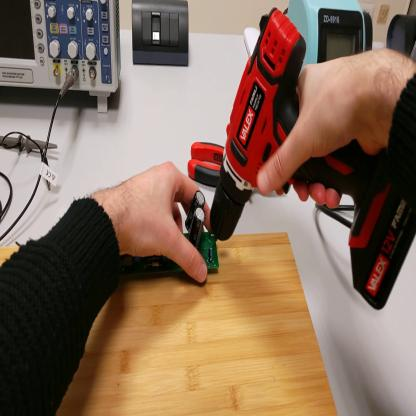electric screwdriver: (209, 6, 416, 313)
hand: (260, 48, 393, 204), (101, 163, 211, 284)
high voltage board: (118, 191, 219, 278)
oscilloscope: (2, 2, 120, 121)
oscilloscope probe tip: (1, 138, 59, 158)
pliers: (186, 140, 226, 187)
socket: (389, 13, 416, 60), (365, 14, 375, 50)
welder station: (288, 1, 368, 72)
working area: (1, 232, 338, 416)
